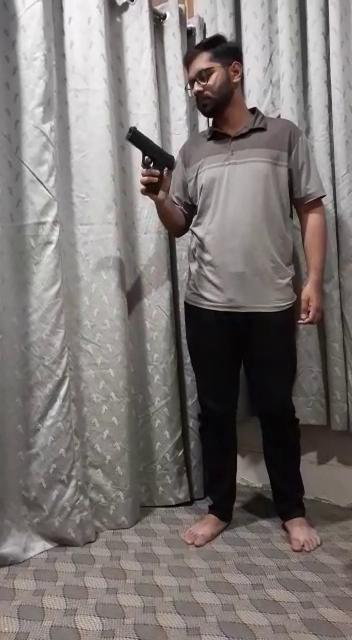criminal: (120, 33, 352, 555)
weapon: (123, 125, 177, 196)
